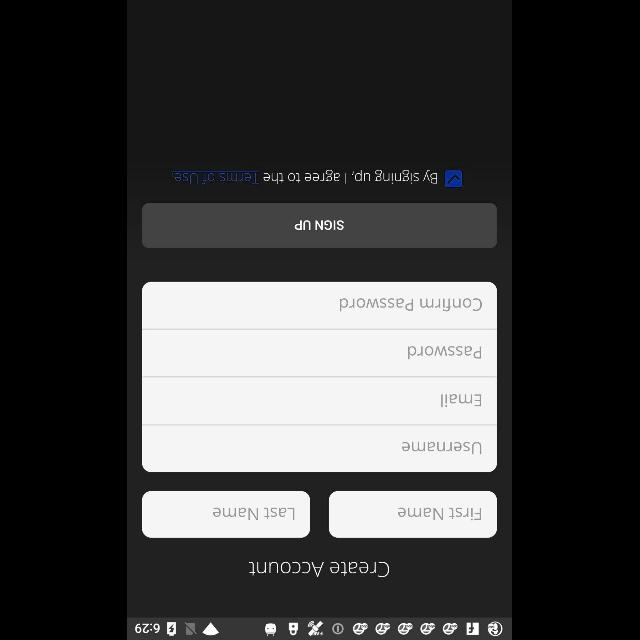checkbox: (447, 171, 463, 187)
input: (142, 376, 498, 426), (142, 424, 498, 472), (142, 282, 498, 330), (143, 329, 497, 377), (329, 490, 497, 538), (143, 490, 311, 538)
text: (170, 170, 438, 184), (250, 561, 390, 577), (341, 298, 483, 312), (398, 508, 482, 520), (214, 508, 296, 520), (403, 442, 482, 454), (408, 346, 482, 358), (442, 394, 482, 406)
textbutton: (142, 202, 498, 248)
uppertaskbar: (128, 617, 512, 639)
